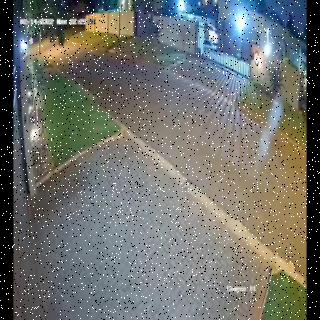car: (204, 23, 220, 45)
